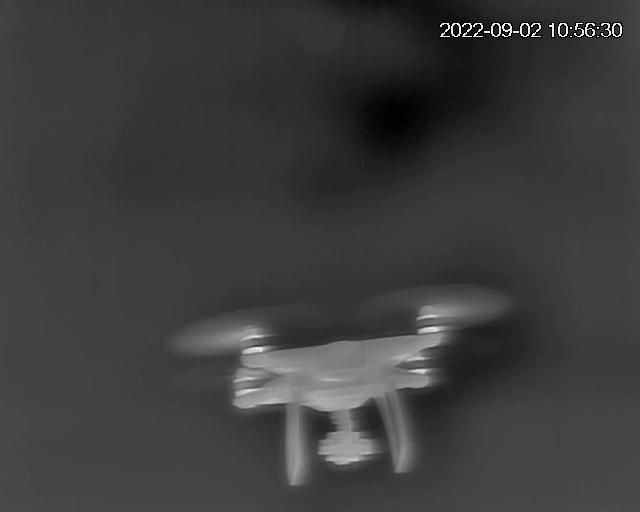DJI-Phantom: (188, 298, 494, 483)
